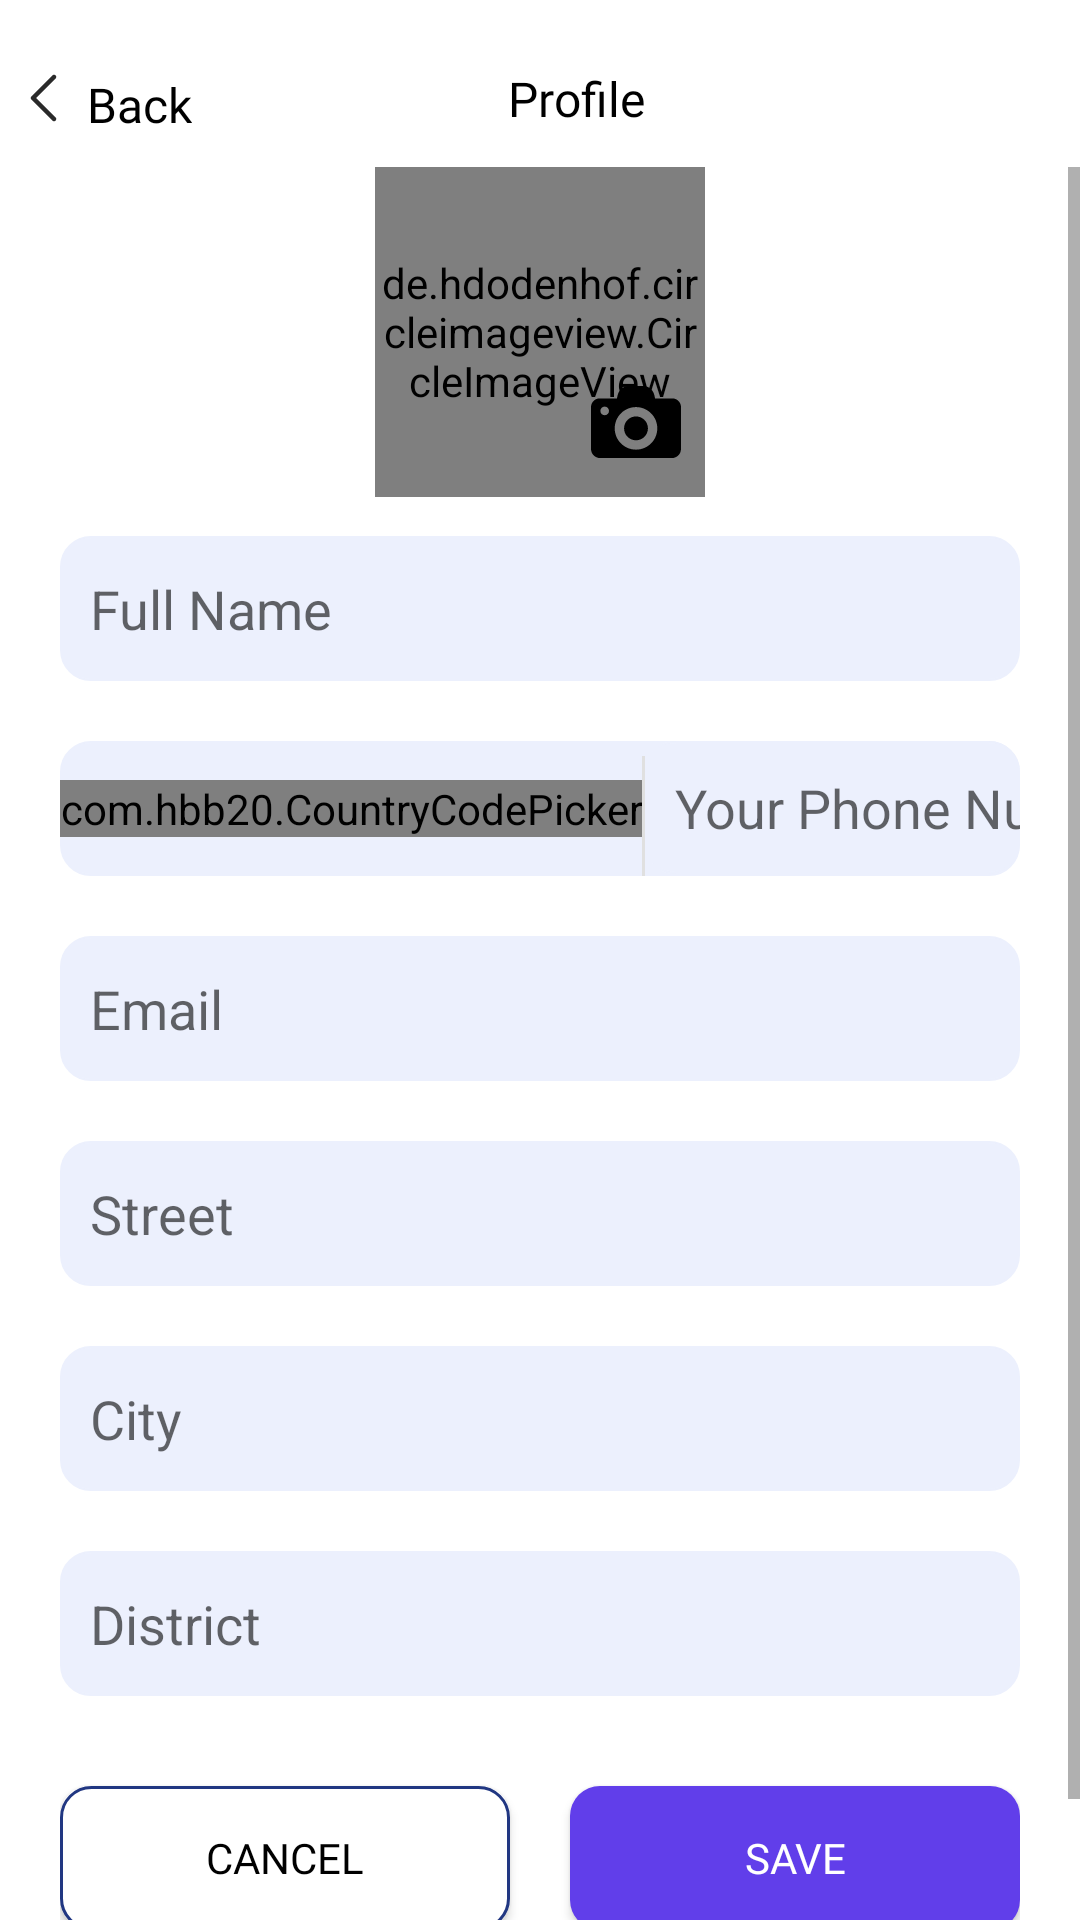

Where icons sit on this 1080px x 1920px app screen, as (x1, y1, x2, y2):
angle left: (30, 74, 57, 122)
camera: (591, 377, 681, 458)
